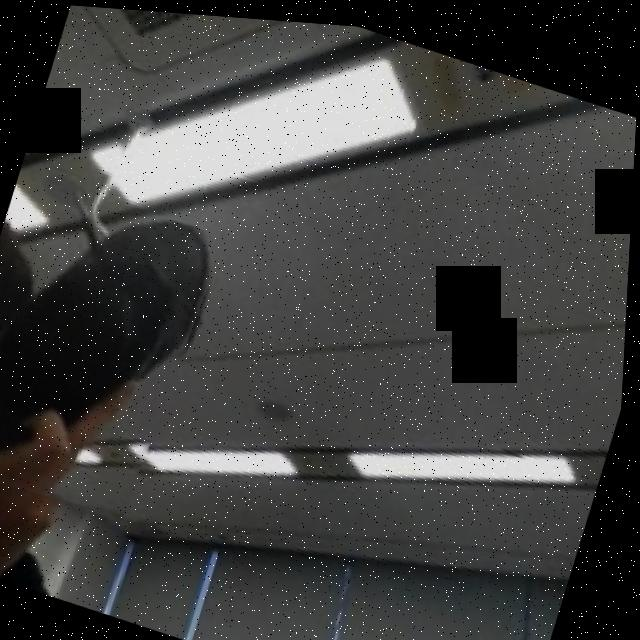shoe: (0, 169, 230, 530)
